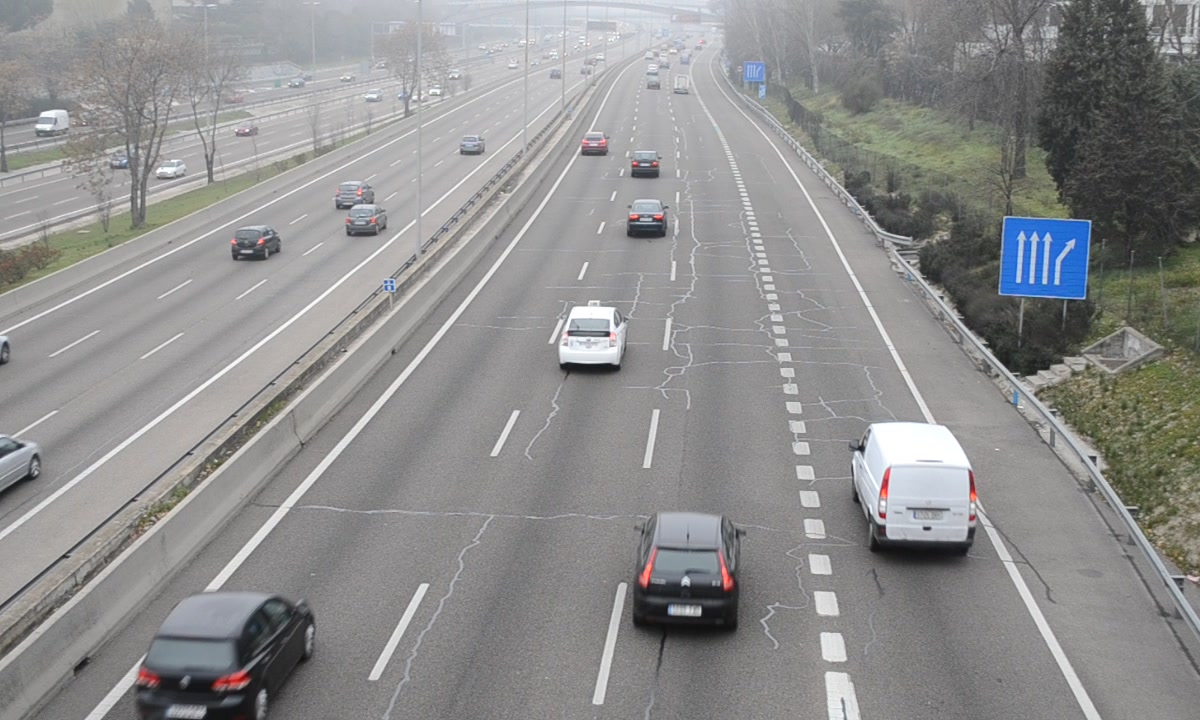car: (132, 595, 314, 720), (634, 511, 740, 626), (561, 305, 625, 367), (629, 197, 668, 234), (630, 148, 660, 177), (579, 130, 610, 156)
van: (854, 422, 978, 554)
